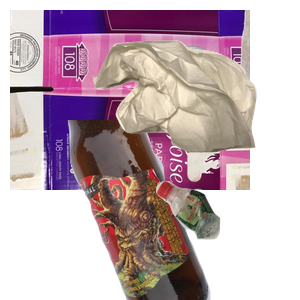cardboard: (10, 10, 250, 190)
glass: (65, 120, 300, 300)
plastic: (153, 178, 300, 300)
trash: (90, 38, 300, 183)
